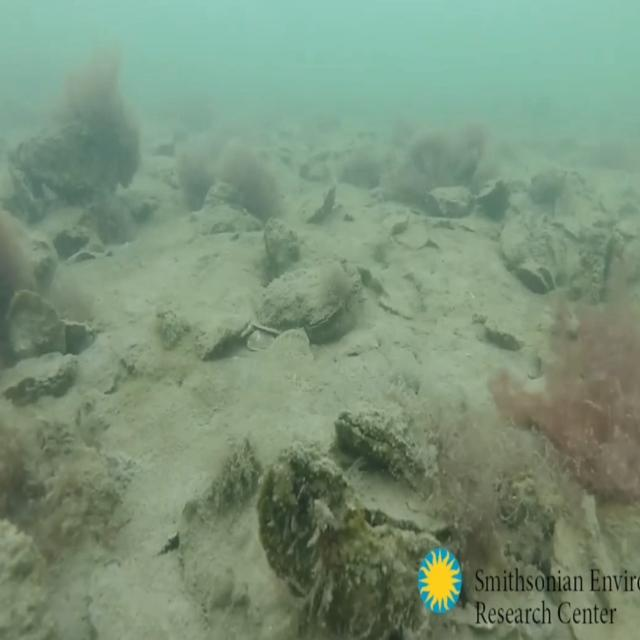Oyster-Closed: (335, 397, 446, 485), (251, 254, 365, 334), (0, 351, 81, 405), (195, 306, 254, 358)
Oyster-Indeterminate: (258, 440, 447, 640), (344, 454, 458, 535), (4, 286, 68, 364), (262, 214, 302, 284), (17, 232, 59, 292), (500, 208, 534, 268), (532, 208, 562, 275), (304, 181, 339, 227), (427, 185, 472, 220), (53, 223, 90, 263), (518, 258, 554, 296), (478, 178, 506, 214)
